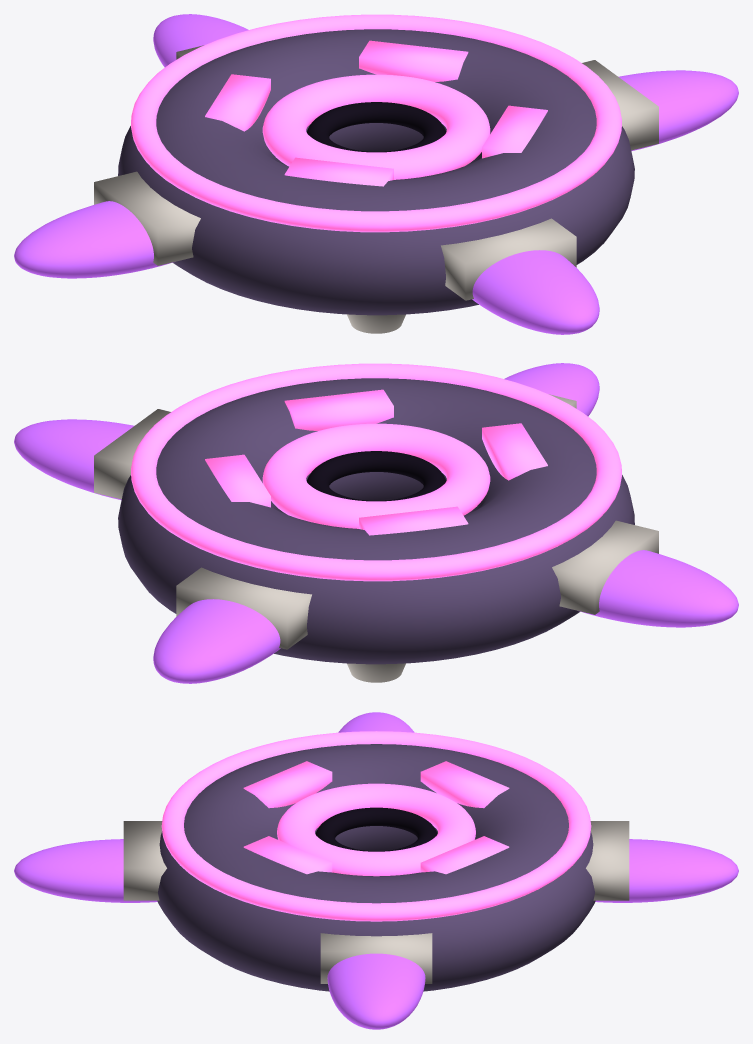
File: rift-echo-orbit-top-r1.glb
The picture shows the model from 3 angles, top to bottom: view 1: azimuth 30°, elevation 25°; view 2: azimuth 150°, elevation 25°; view 3: azimuth 270°, elevation 25°; orthographic projection. The views are drawn at different scales.
Parts seen in each view (by area): view 1: RiftBase_OuterClayTorus, RiftResonance_ResonanceFaultRing, RiftBase_TrueVoidBezel, RiftResonance_ResonanceFin_03, RiftResonance_ResonanceFin_04, RiftResonance_ResonanceFin_01, RiftBase_CardinalGuard_04, RiftBase_CardinalGuard_03, RiftBase_VoidOcclusionRing, RiftBase_FaultGlyph_01, RiftResonance_ResonanceFin_02, RiftBase_CardinalGuard_01 (+4 smaller); view 2: RiftBase_OuterClayTorus, RiftResonance_ResonanceFaultRing, RiftBase_TrueVoidBezel, RiftResonance_ResonanceFin_03, RiftResonance_ResonanceFin_02, RiftResonance_ResonanceFin_01, RiftBase_CardinalGuard_02, RiftBase_CardinalGuard_03, RiftBase_VoidOcclusionRing, RiftBase_FaultGlyph_04, RiftResonance_ResonanceFin_04, RiftBase_CardinalGuard_01 (+4 smaller); view 3: RiftBase_OuterClayTorus, RiftResonance_ResonanceFaultRing, RiftBase_TrueVoidBezel, RiftResonance_ResonanceFin_01, RiftResonance_ResonanceFin_02, RiftResonance_ResonanceFin_04, RiftBase_CardinalGuard_01, RiftBase_CardinalGuard_02, RiftBase_CardinalGuard_04, RiftBase_VoidOcclusionRing, RiftBase_FaultGlyph_02, RiftBase_FaultGlyph_03 (+3 smaller).
Boxes of the visible parts, x1,y1,x2,y2 form: RiftBase_OuterClayTorus: (118, 29, 634, 315); RiftResonance_ResonanceFaultRing: (131, 14, 621, 232); RiftBase_TrueVoidBezel: (262, 74, 490, 179); RiftResonance_ResonanceFin_03: (14, 201, 173, 278); RiftResonance_ResonanceFin_04: (472, 250, 599, 334); RiftResonance_ResonanceFin_01: (618, 70, 738, 151); RiftBase_CardinalGuard_04: (441, 218, 576, 300); RiftBase_CardinalGuard_03: (94, 171, 200, 265); RiftBase_VoidOcclusionRing: (307, 102, 445, 152); RiftBase_FaultGlyph_01: (359, 40, 468, 81); RiftResonance_ResonanceFin_02: (153, 14, 248, 67); RiftBase_CardinalGuard_01: (582, 60, 658, 150); RiftBase_OuterClayTorus: (118, 378, 634, 664); RiftResonance_ResonanceFaultRing: (131, 363, 621, 581); RiftBase_TrueVoidBezel: (262, 423, 490, 528); RiftResonance_ResonanceFin_03: (579, 550, 738, 627); RiftResonance_ResonanceFin_02: (153, 599, 280, 683); RiftResonance_ResonanceFin_01: (14, 419, 134, 500); RiftBase_CardinalGuard_02: (176, 567, 311, 649); RiftBase_CardinalGuard_03: (552, 520, 658, 614); RiftBase_VoidOcclusionRing: (307, 451, 445, 501); RiftBase_FaultGlyph_04: (284, 389, 393, 430); RiftResonance_ResonanceFin_04: (504, 363, 599, 416); RiftBase_CardinalGuard_01: (94, 409, 170, 499); RiftBase_OuterClayTorus: (157, 744, 595, 991); RiftResonance_ResonanceFaultRing: (161, 731, 591, 921); RiftBase_TrueVoidBezel: (277, 783, 475, 876); RiftResonance_ResonanceFin_01: (327, 953, 425, 1029); RiftResonance_ResonanceFin_02: (595, 839, 738, 902); RiftResonance_ResonanceFin_04: (14, 839, 157, 902); RiftBase_CardinalGuard_01: (320, 933, 432, 983); RiftBase_CardinalGuard_02: (586, 821, 629, 900); RiftBase_CardinalGuard_04: (123, 821, 166, 900); RiftBase_VoidOcclusionRing: (315, 807, 437, 851); RiftBase_FaultGlyph_02: (420, 761, 509, 808); RiftBase_FaultGlyph_03: (243, 761, 332, 808).
Size of the model in its own units: 3.24 by 0.905 by 3.24.
